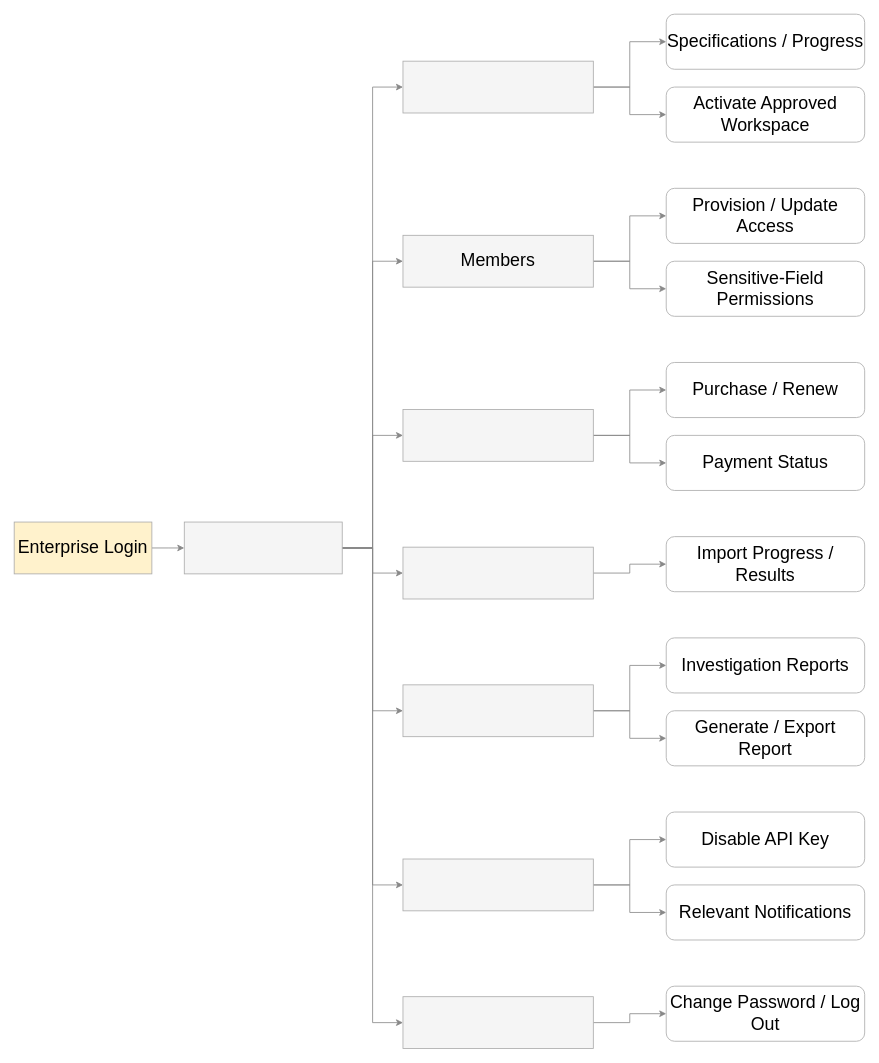
The diagram is 879 pixels wide and 1063 high, and some of its shapes have lost their labels. Here are the shapes that lost their labels. From the top down, the centre of each, then its label:
point (497, 86): Onboarding
point (497, 435): Plans / Subscription
point (262, 547): Enterprise Workspace
point (497, 572): Production File Import
point (497, 710): Dashboard / Reports
point (497, 884): Integration / Notices
point (497, 1022): Account
